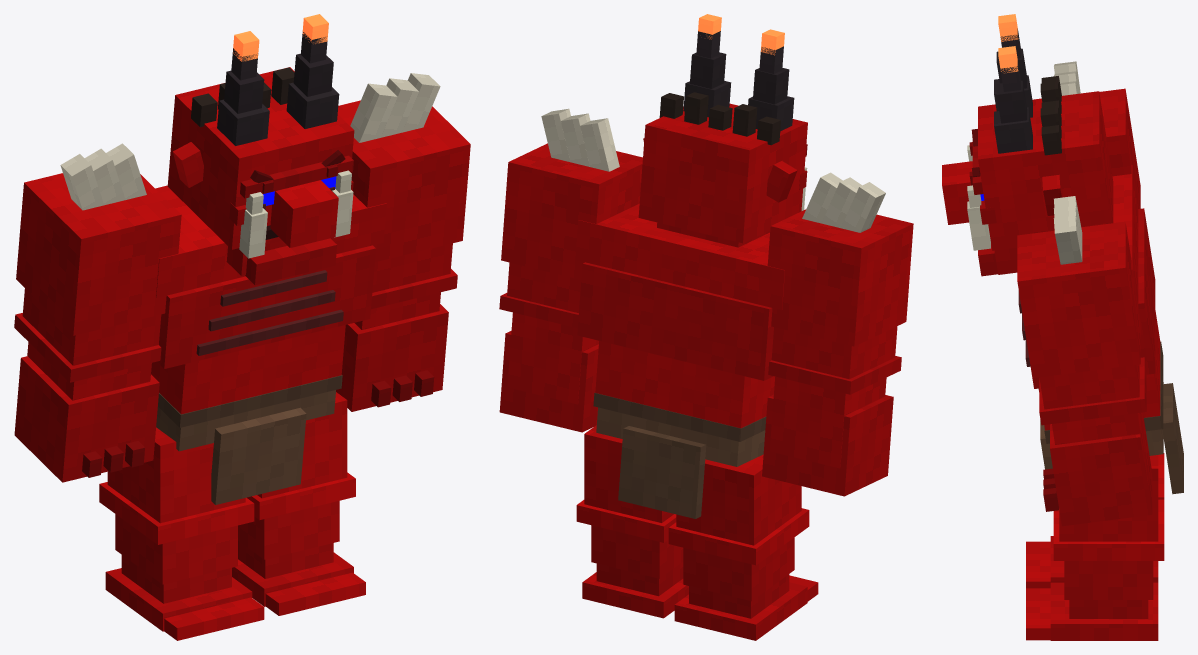
File: ogre_s1_evo2.glb
3 views of the same model, side by side, from view 1: azimuth 30°, elevation 25°; view 2: azimuth 150°, elevation 25°; view 3: azimuth 270°, elevation 25° (orthographic). The views are drawn at different scales.
Visible parts, largest first — view 1: ArmR, Torso, Head, ArmL, LegR, LegL; view 2: Torso, ArmR, ArmL, Head, LegR, LegL; view 3: ArmL, Head, LegL, Torso, ArmR, LegR.
Boxes of the visible parts, bbox=[...] form: ArmR: bbox=[14, 143, 181, 482]; Torso: bbox=[151, 185, 386, 504]; Head: bbox=[167, 14, 354, 285]; ArmL: bbox=[336, 73, 470, 411]; LegR: bbox=[99, 427, 264, 640]; LegL: bbox=[232, 392, 365, 615]; Torso: bbox=[575, 203, 784, 518]; ArmR: bbox=[762, 172, 913, 496]; ArmL: bbox=[499, 108, 642, 432]; Head: bbox=[638, 14, 807, 247]; LegR: bbox=[668, 454, 818, 640]; LegL: bbox=[576, 425, 688, 618]; ArmL: bbox=[1017, 196, 1152, 526]; Head: bbox=[942, 14, 1113, 276]; LegL: bbox=[1026, 455, 1164, 640]; Torso: bbox=[1018, 165, 1183, 494]; ArmR: bbox=[1054, 61, 1140, 208]; LegR: bbox=[1026, 453, 1164, 588].
Size of the model in its own units: 1.46 by 2.13 by 0.8306.
28 materials, 28 textured.
